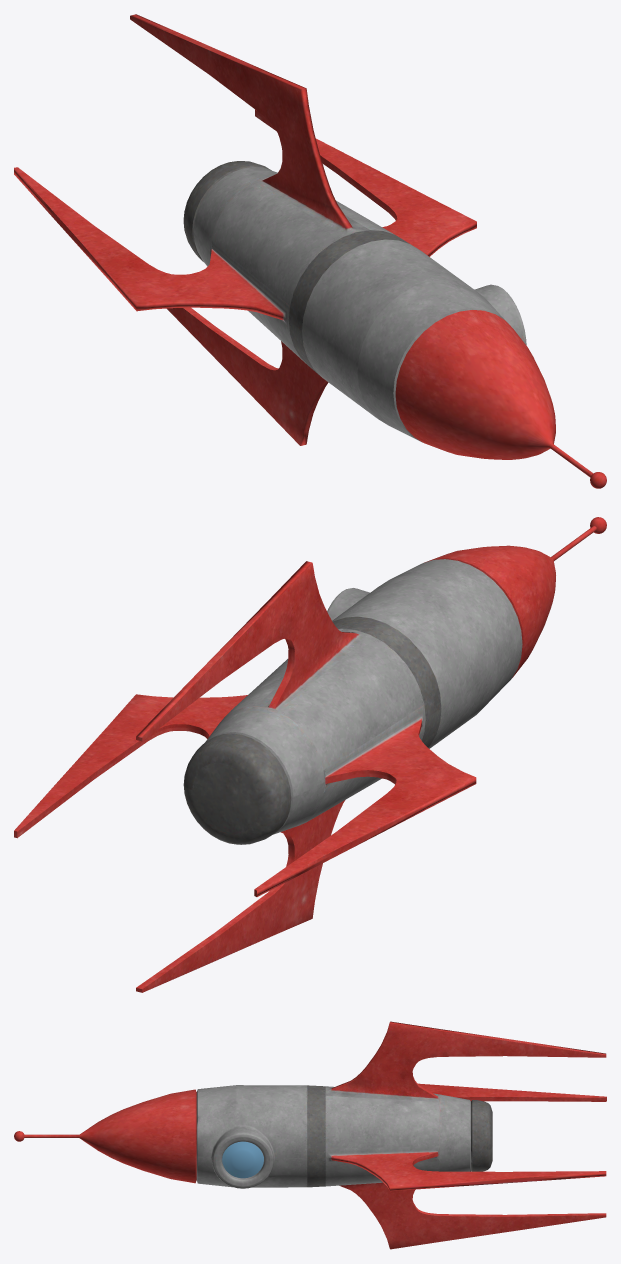
Rendered from SpaceShip.fbx.
3 renders of one model, top to bottom at view 1: azimuth 30°, elevation 25°; view 2: azimuth 150°, elevation 25°; view 3: azimuth 270°, elevation 25°, orthographic. The views are drawn at different scales.
Parts seen in each view (by area): view 1: node_id4; view 2: node_id4; view 3: node_id4.
Part boxes in pixels (box(x1,y1,x2,y2)): node_id4: box(14, 14, 606, 488); node_id4: box(14, 517, 606, 992); node_id4: box(14, 1021, 606, 1249).
Size of the model in its own units: 0.2153 by 0.2153 by 0.512.
Materials: 1 (1 with a texture image).
